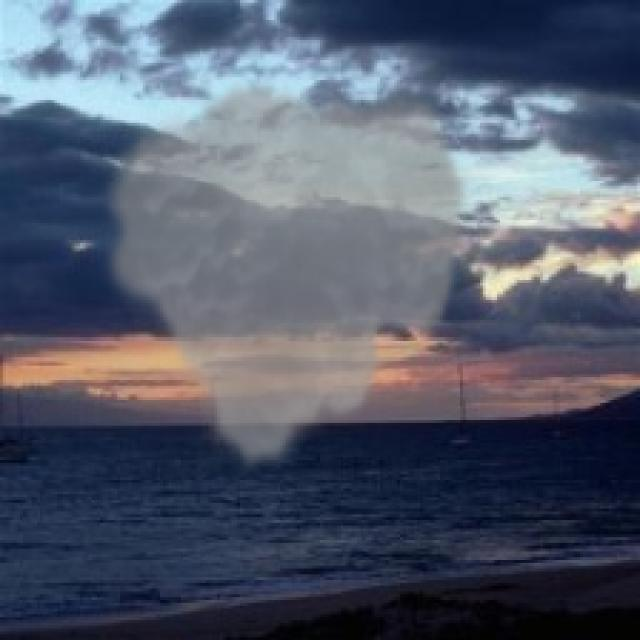smoke: (94, 77, 474, 477)
